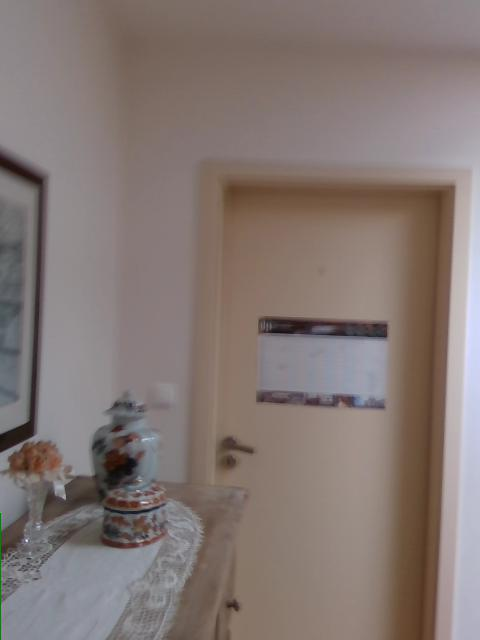door: (193, 165, 475, 639)
